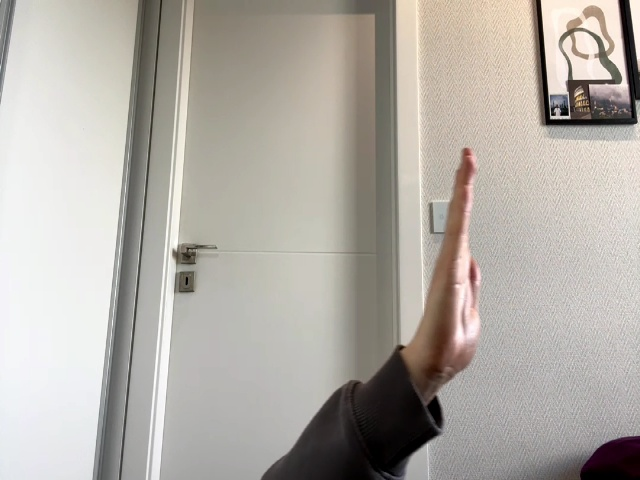SZ: (424, 148, 481, 383)
